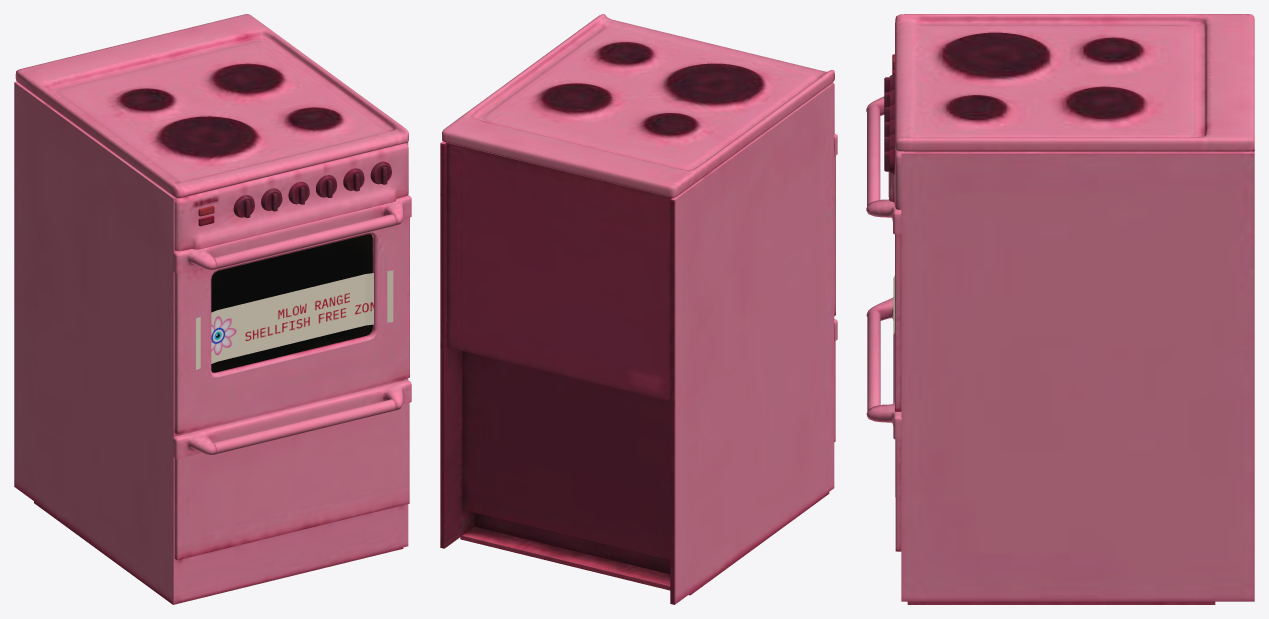
File: nyb_hitch_stove.glb
3 renders of one model, left to right at view 1: azimuth 30°, elevation 25°; view 2: azimuth 150°, elevation 25°; view 3: azimuth 270°, elevation 25°, orthographic. The views are drawn at different scales.
Parts seen in each view (by area): view 1: stovetop, stk_lbl_0a10e3aadf.png; view 2: stovetop; view 3: stovetop.
Part boxes in pixels (bbox=[...]): stovetop: bbox=[14, 14, 411, 604]; stk_lbl_0a10e3aadf.png: bbox=[196, 270, 393, 369]; stovetop: bbox=[440, 14, 837, 604]; stovetop: bbox=[866, 14, 1254, 604].
Bounding box in the file's own units: 0.5026 × 0.8587 × 0.6476.
Materials: 3 (3 with a texture image).
